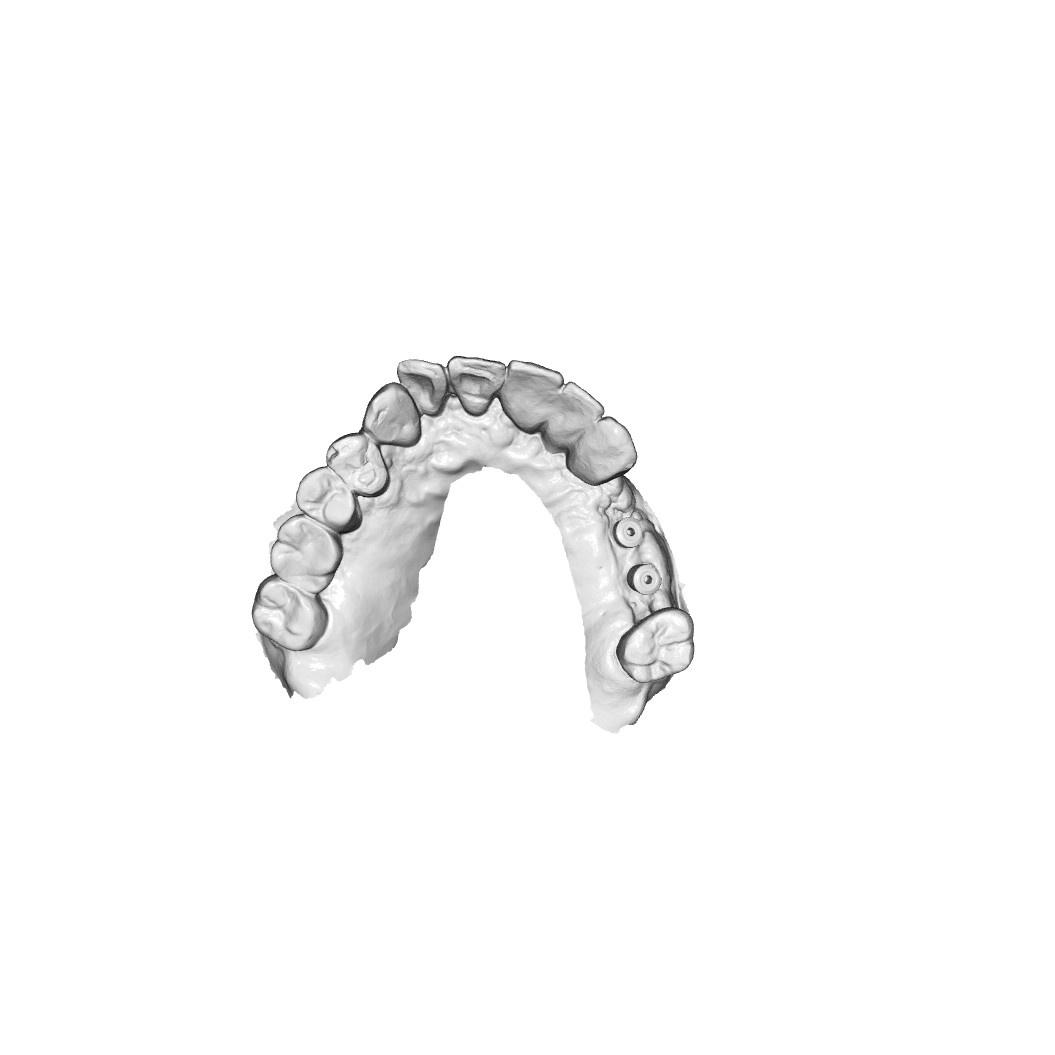canine: (565, 415, 637, 488), (364, 383, 420, 450)
implant: (627, 557, 665, 597), (613, 514, 646, 551)
incisor: (503, 359, 561, 430), (546, 385, 600, 457), (394, 358, 451, 422), (449, 356, 506, 419)
molar: (613, 605, 699, 686), (249, 576, 328, 654), (272, 519, 340, 591)
premolar: (325, 434, 391, 497), (296, 467, 363, 529)
